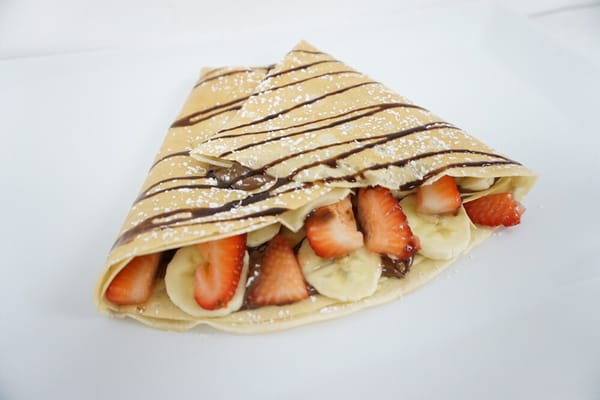burger: (92, 37, 535, 319)
pizza: (193, 233, 248, 311)
